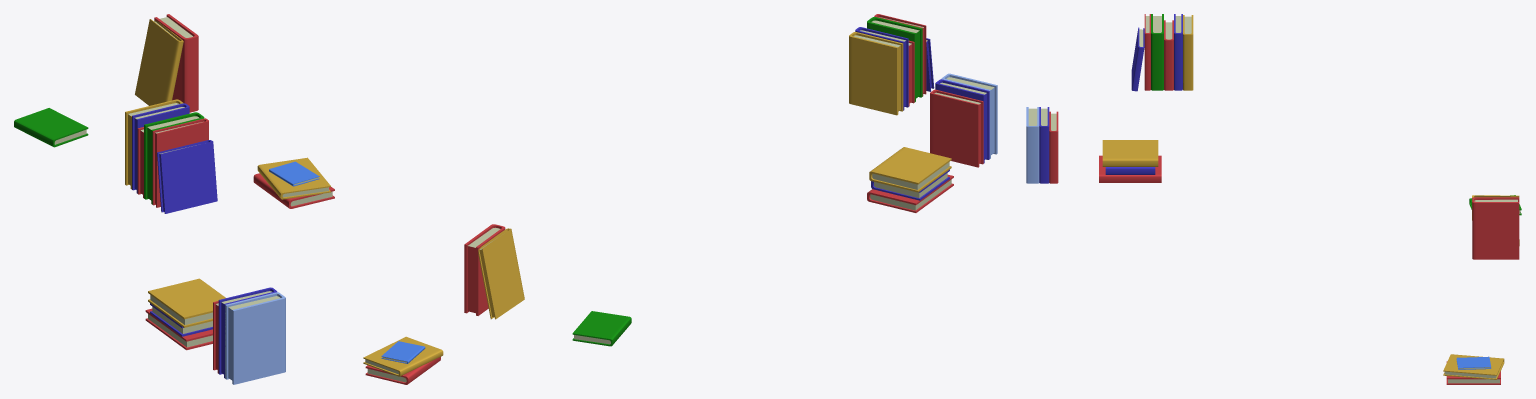
Rendered from books.glb.
The picture shows the model from 3 angles, left to right: view 1: azimuth 30°, elevation 25°; view 2: azimuth 150°, elevation 25°; view 3: azimuth 270°, elevation 25°; orthographic projection. The views are drawn at different scales.
Parts seen in each view (by area): view 1: Book7, Book18, Book6, Book12, Book5, Book4, Book17, Book2, Book13, Book15, Book8, Book10 (+6 smaller); view 2: Book16, Book9, Book6, Book12, Book5, Book4, Book13, Book2, Book8, Book10, Book7, Book15 (+4 smaller); view 3: Book5, Book12, Book7, Book13, Book2, Book8, Book16, Book9, Book10, Book14, Book15, Book18 (+3 smaller).
Part boxes in pixels (box(x1,y1,x2,y2)): Book7: box(225, 292, 285, 384); Book18: box(157, 140, 217, 213); Book6: box(135, 19, 183, 105); Book12: box(148, 278, 225, 327); Book5: box(154, 14, 198, 112); Book4: box(14, 108, 88, 147); Book17: box(152, 118, 208, 207); Book2: box(257, 157, 330, 199); Book13: box(144, 112, 204, 204); Book15: box(132, 103, 189, 193); Book8: box(218, 287, 277, 378); Book10: box(145, 308, 212, 350); Book16: box(849, 32, 903, 115); Book9: box(930, 89, 983, 167); Book6: box(478, 228, 524, 319); Book12: box(869, 147, 951, 192); Book5: box(464, 224, 505, 315); Book4: box(572, 311, 631, 346); Book13: box(867, 17, 922, 102); Book2: box(363, 336, 443, 376); Book8: box(935, 79, 989, 163); Book10: box(867, 174, 953, 212); Book7: box(941, 73, 997, 158); Book15: box(855, 27, 908, 110); Book5: box(1472, 197, 1519, 259); Book12: box(1102, 140, 1158, 166); Book7: box(1026, 107, 1039, 183); Book13: box(1151, 14, 1163, 90); Book2: box(1443, 354, 1504, 379); Book8: box(1039, 107, 1049, 183); Book16: box(1183, 15, 1193, 90); Book9: box(1049, 111, 1058, 183); Book10: box(1099, 155, 1161, 182); Book14: box(1164, 20, 1173, 90); Book15: box(1174, 14, 1182, 90); Book18: box(1131, 27, 1144, 91).
Size of the model in its own units: 2.23 by 1.68 by 3.28.
